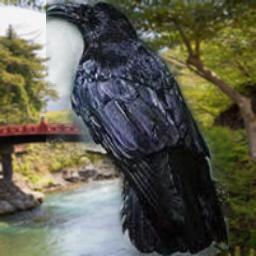Crow: (46, 0, 229, 256)
